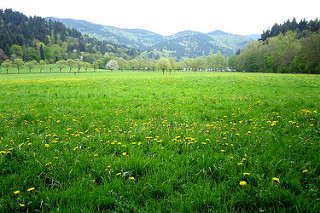dandelion: (12, 185, 23, 197), (1, 147, 12, 158), (237, 178, 249, 188), (126, 173, 137, 183), (26, 184, 36, 194), (184, 137, 196, 145), (42, 160, 53, 168), (234, 159, 246, 166), (269, 175, 280, 182), (120, 150, 130, 157)
